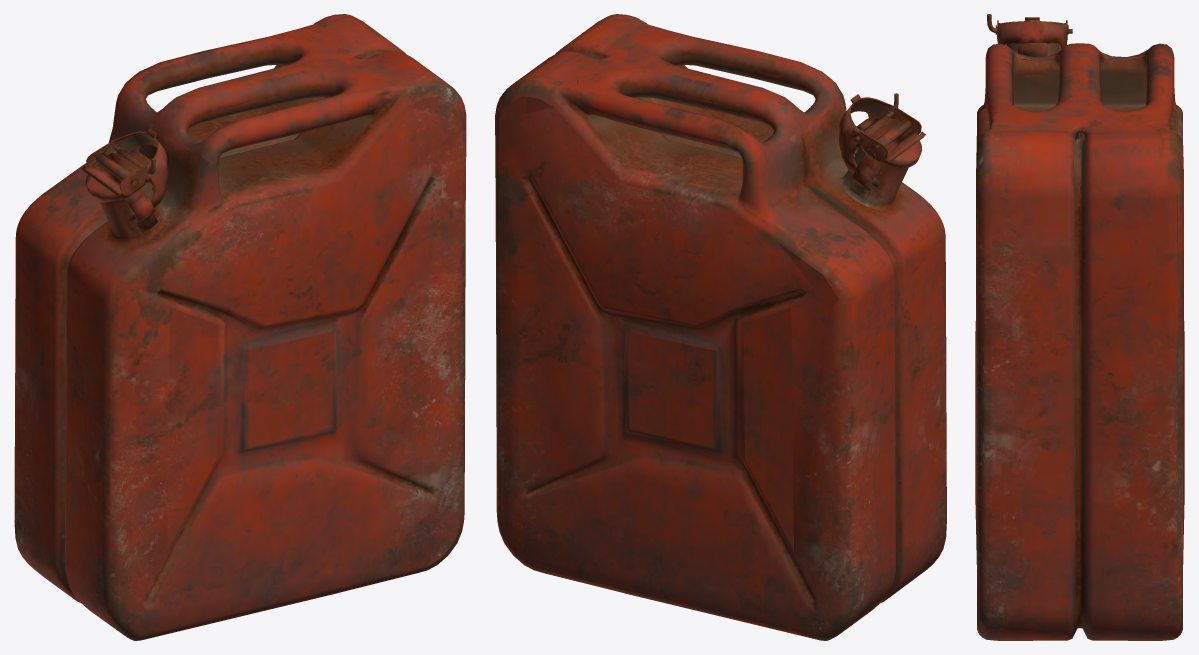
File: ph_jerrycan.glb
3 renders of one model, left to right at view 1: azimuth 30°, elevation 25°; view 2: azimuth 150°, elevation 25°; view 3: azimuth 270°, elevation 25°, orthographic. The views are drawn at different scales.
Parts seen in each view (by area): view 1: metal_jerrycan; view 2: metal_jerrycan; view 3: metal_jerrycan.
Boxes of the visible parts, x1,y1,x2,y2 form: metal_jerrycan: [14, 14, 466, 640]; metal_jerrycan: [495, 14, 946, 640]; metal_jerrycan: [975, 14, 1184, 640].
Bounding box in the file's own units: 0.3503 × 0.455 × 0.1719.
Materials: 1 (1 with a texture image).
